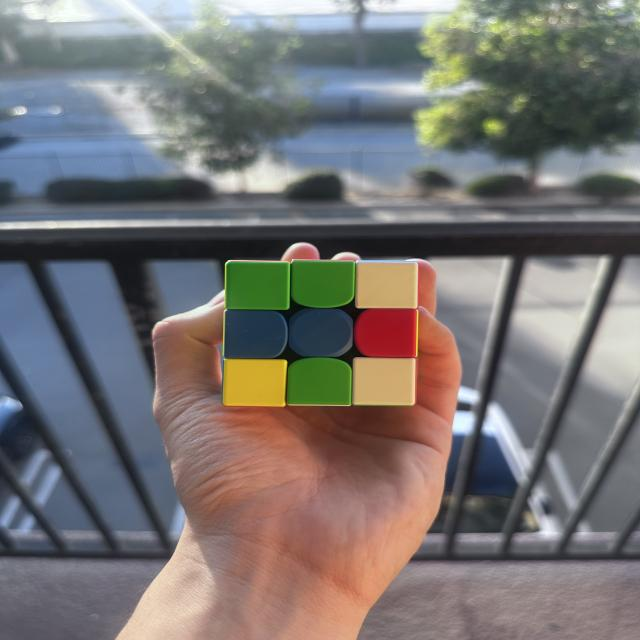sticker: (352, 258, 419, 313), (223, 259, 292, 312), (352, 307, 419, 361), (286, 308, 355, 360), (289, 258, 356, 311), (286, 357, 354, 408), (222, 309, 288, 361), (222, 358, 288, 409), (351, 357, 416, 408)
